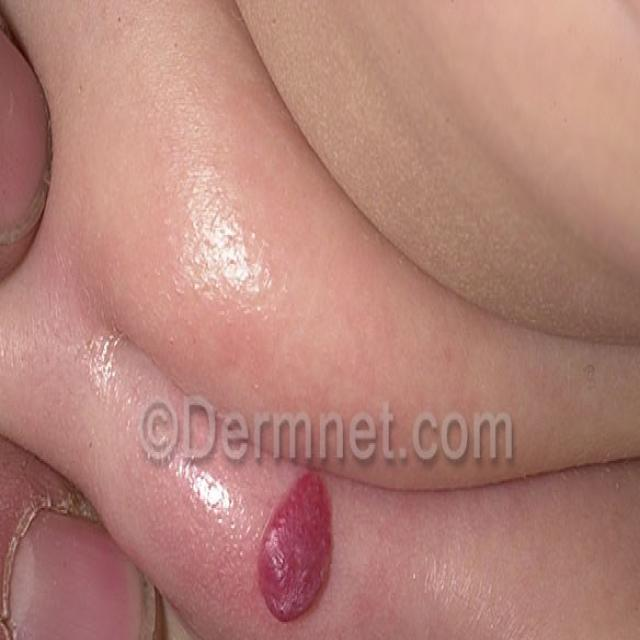Vascular Tumors: (254, 461, 351, 630)
